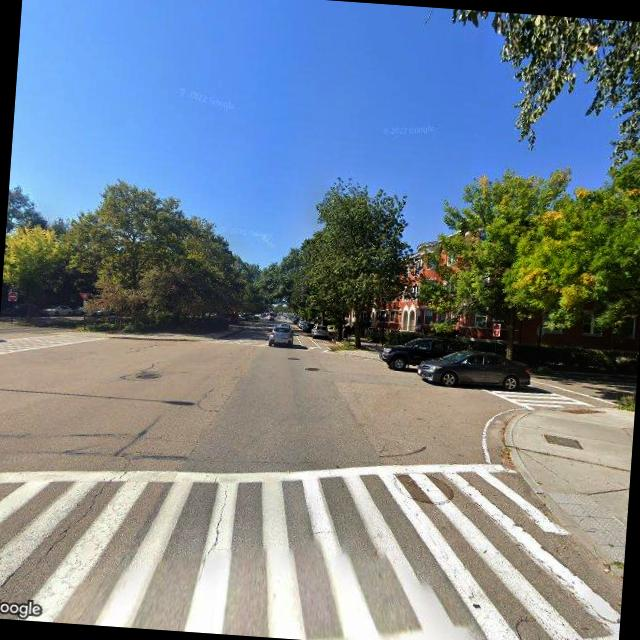crack: (22, 470, 112, 583), (202, 479, 232, 554)
